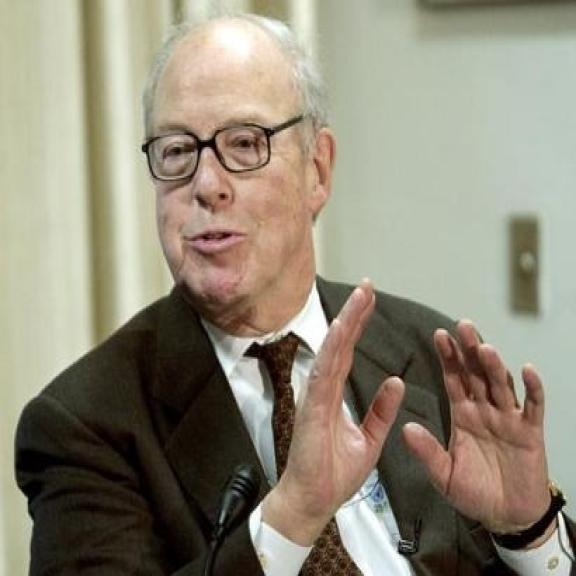face: (135, 55, 339, 321)
